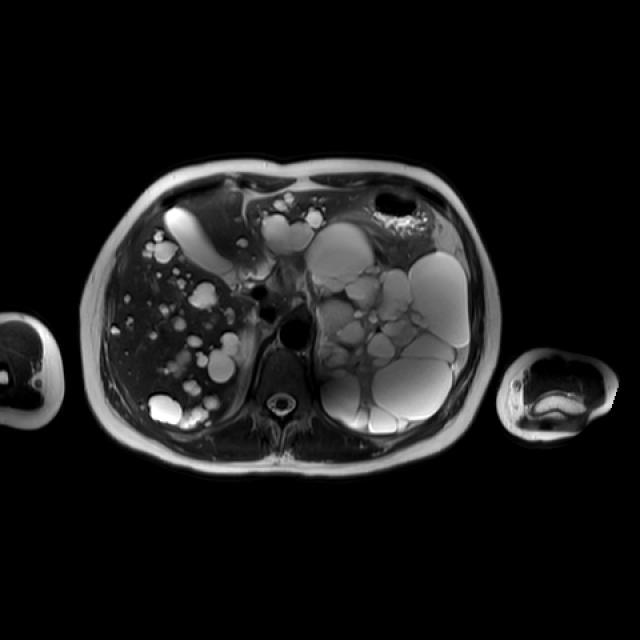sol: (307, 219, 469, 433)
